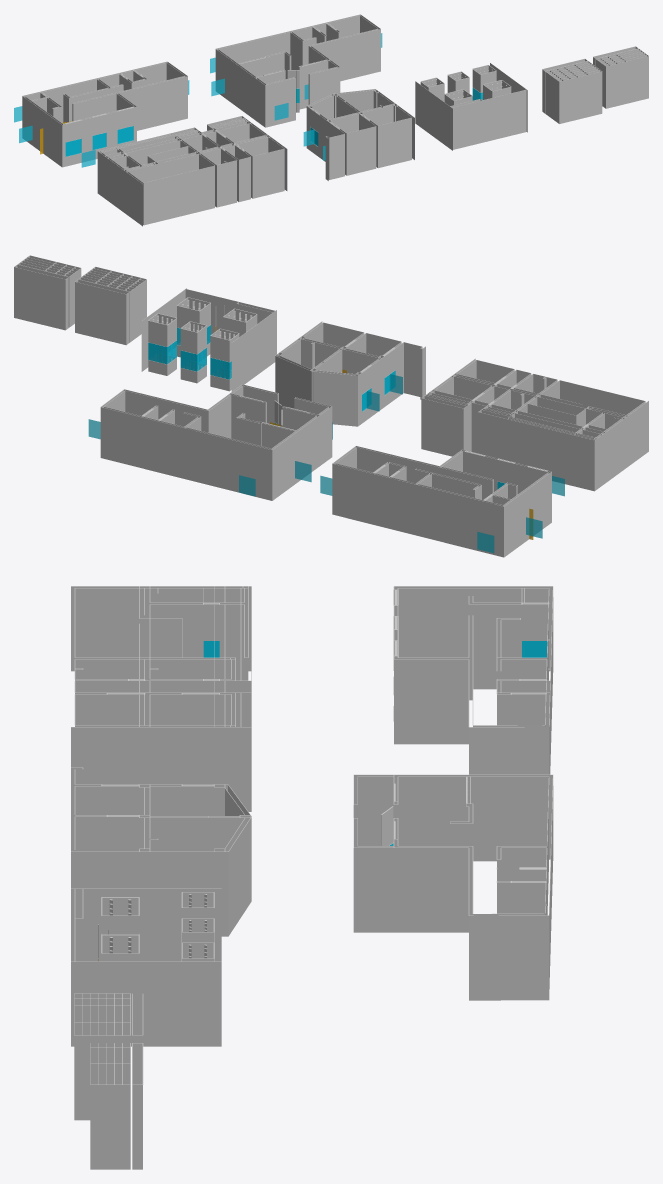
The model's file is dd83eebd-b90a-4d1f-8f52-bbb90870a036.glb.
3 views of the same model, one above another, from view 1: azimuth 30°, elevation 25°; view 2: azimuth 150°, elevation 25°; view 3: azimuth 270°, elevation 25° (orthographic). The views are drawn at different scales.
Visible parts, largest first — view 1: walls, windows, roof; view 2: walls, windows, roof; view 3: walls, roof.
Part boxes in pixels (bbox=[...]): walls: bbox=[22, 14, 648, 226]; windows: bbox=[14, 33, 482, 167]; roof: bbox=[23, 14, 646, 183]; walls: bbox=[14, 255, 648, 557]; windows: bbox=[88, 325, 564, 553]; roof: bbox=[14, 255, 647, 506]; walls: bbox=[71, 586, 553, 1169]; roof: bbox=[71, 586, 553, 1084].
Size of the model in its own units: 45.62 by 3.5 by 19.46.
